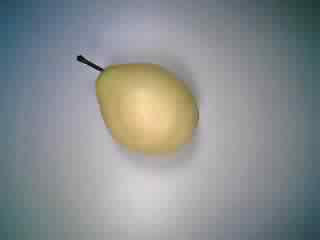pear: (61, 47, 219, 163)
